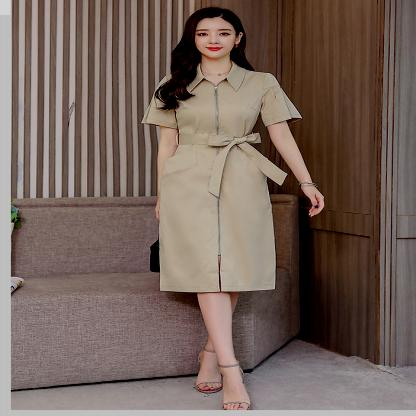dress: (145, 60, 302, 292)
